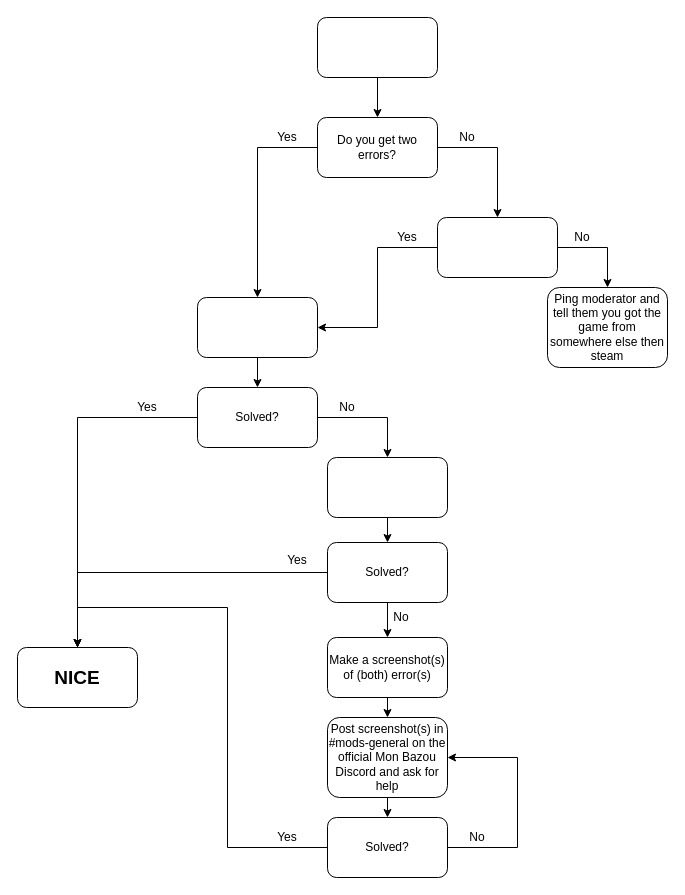
This 685x895 diagram has some shape labels left out. The shapes that lost their labels are listed below. From the top down, each one's centre as x and y in pixels, then its label:
At point 377,47: "Mod Manager gives error".
At point 497,247: "Did you get the game from steam?".
At point 257,327: "Try disabling your Firewall and Antivirus".
At point 387,487: "Try reinstalling the game (dont worry you won't lose your save)".
